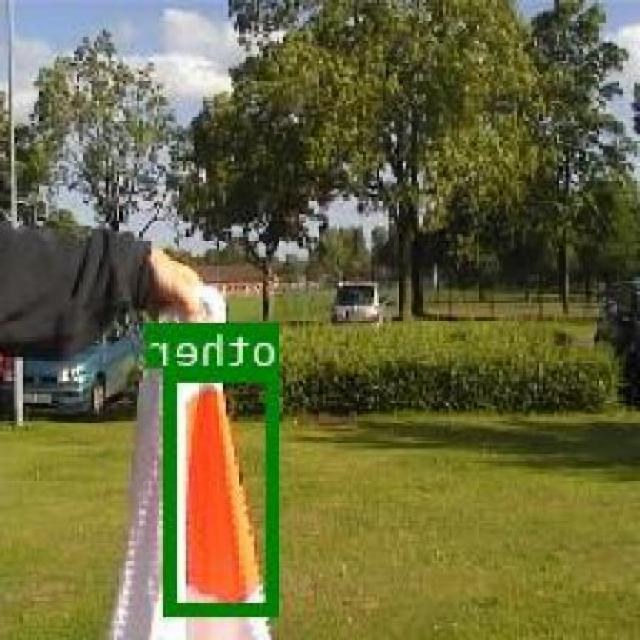other: (167, 368, 282, 614)
